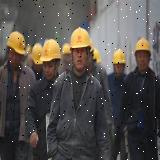Helmet: (7, 30, 26, 58), (69, 26, 91, 50), (41, 38, 61, 62), (135, 38, 152, 55), (31, 43, 44, 65), (112, 48, 126, 66)
